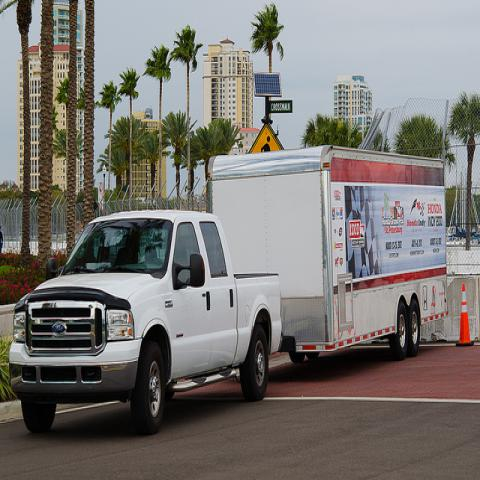truck: (6, 148, 448, 435)
